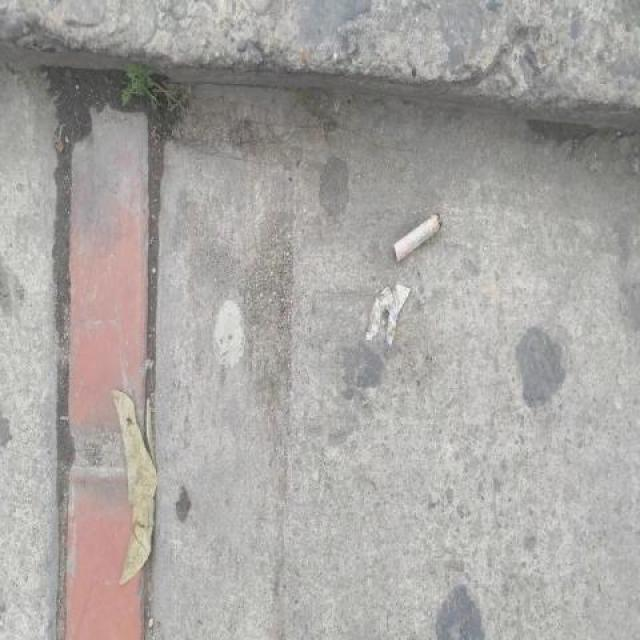non-organic waste: (388, 206, 448, 266)
